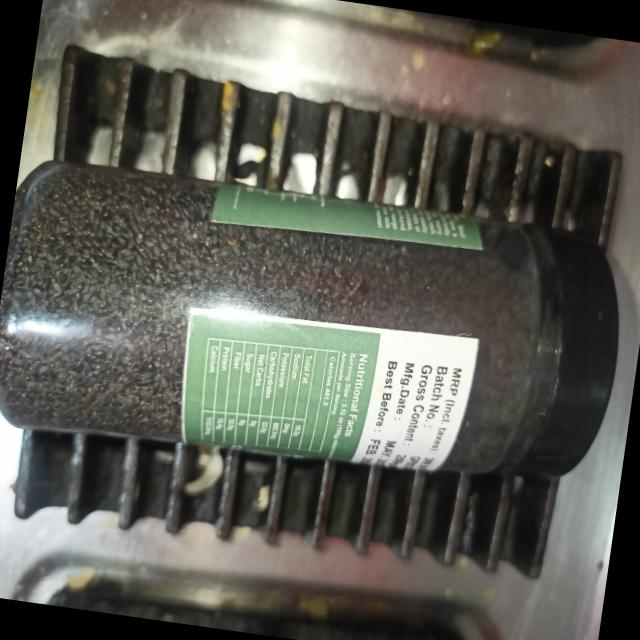plastic_bottle: (0, 152, 627, 495)
